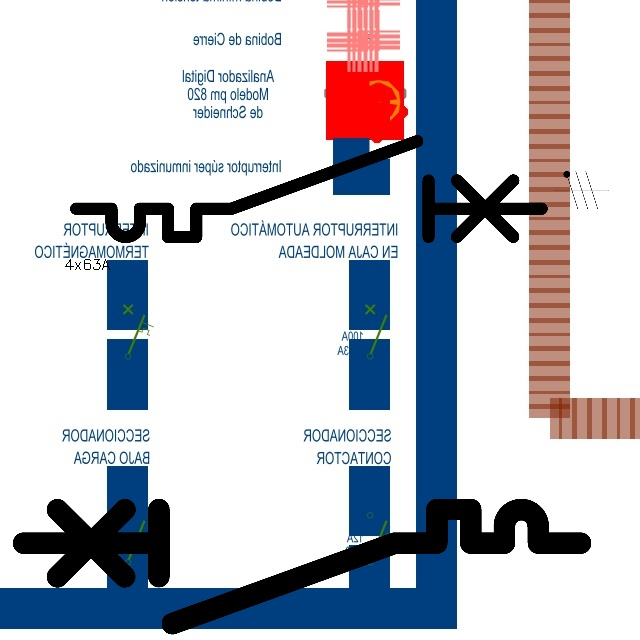interruptor_termomagnetico: (9, 495, 595, 638), (64, 129, 554, 249)
